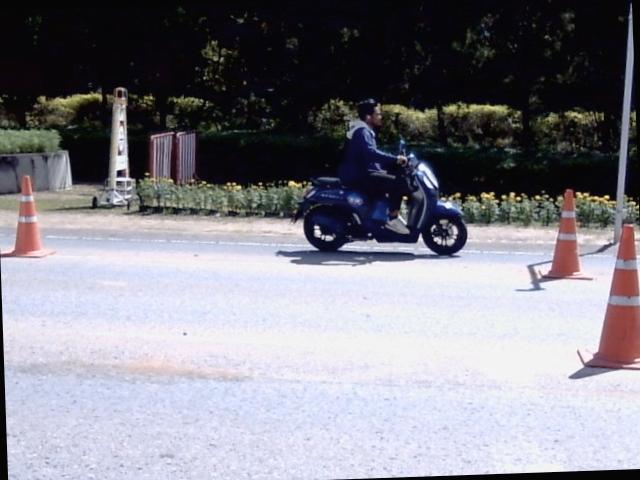motor: (292, 153, 466, 254)
no-helmet: (350, 98, 382, 128)
person: (339, 100, 408, 233)
